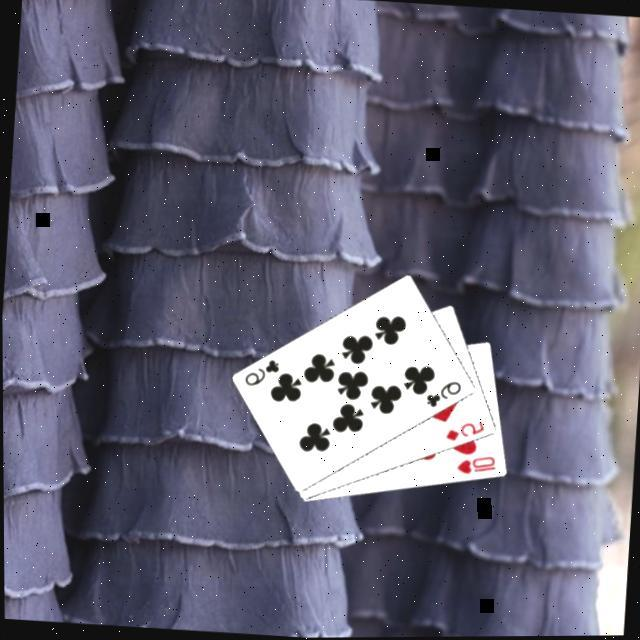10H: (453, 450, 500, 479)
5D: (443, 415, 489, 446)
9C: (423, 374, 465, 411), (242, 353, 284, 390)
